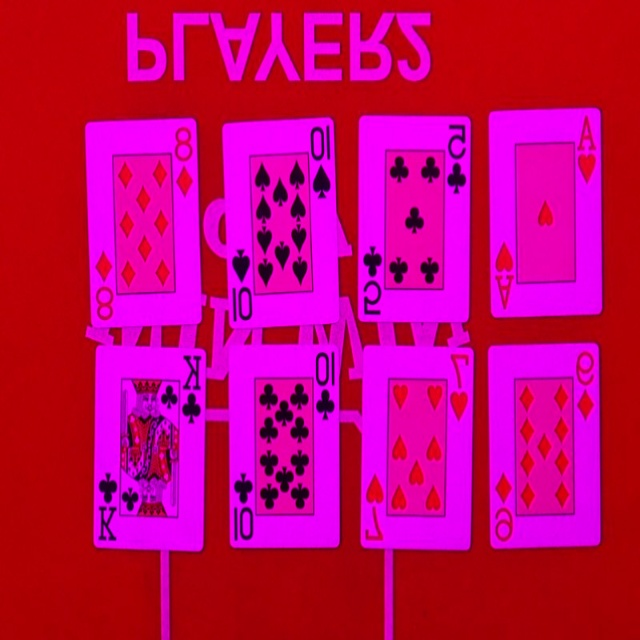10C: (230, 468, 256, 543), (314, 346, 338, 423)
10S: (310, 121, 336, 201), (229, 243, 255, 323)
5C: (360, 241, 386, 318), (446, 119, 471, 197)
7H: (360, 464, 387, 543), (447, 350, 474, 425)
8D: (89, 244, 117, 323), (171, 126, 197, 197)
9D: (575, 345, 601, 422), (490, 465, 515, 542)
AH: (574, 113, 602, 189), (491, 240, 518, 317)
KC: (94, 467, 118, 546), (178, 349, 202, 426)
